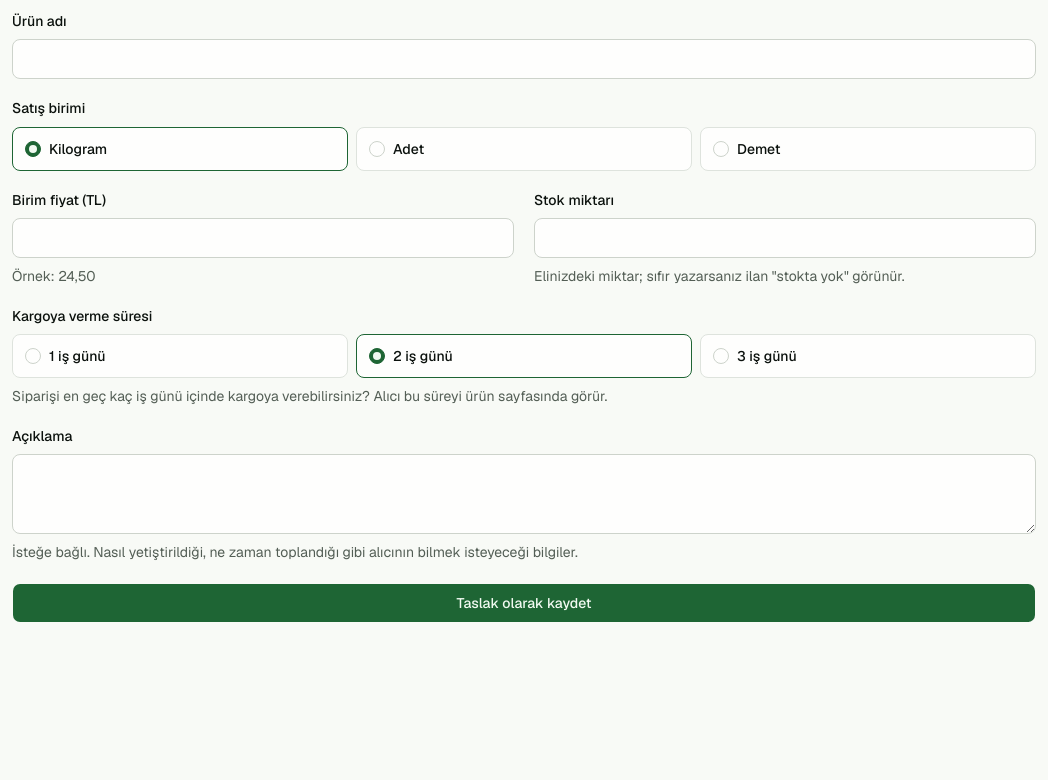
it: ListingForm › sunucunun alan hatasını ilgili alana bağlar
The width and height of the screenshot is (1048, 780).
Type "X" into the field labelled "Ürün adı" at (524, 59), box x1=12 y1=39 x2=1036 y2=79
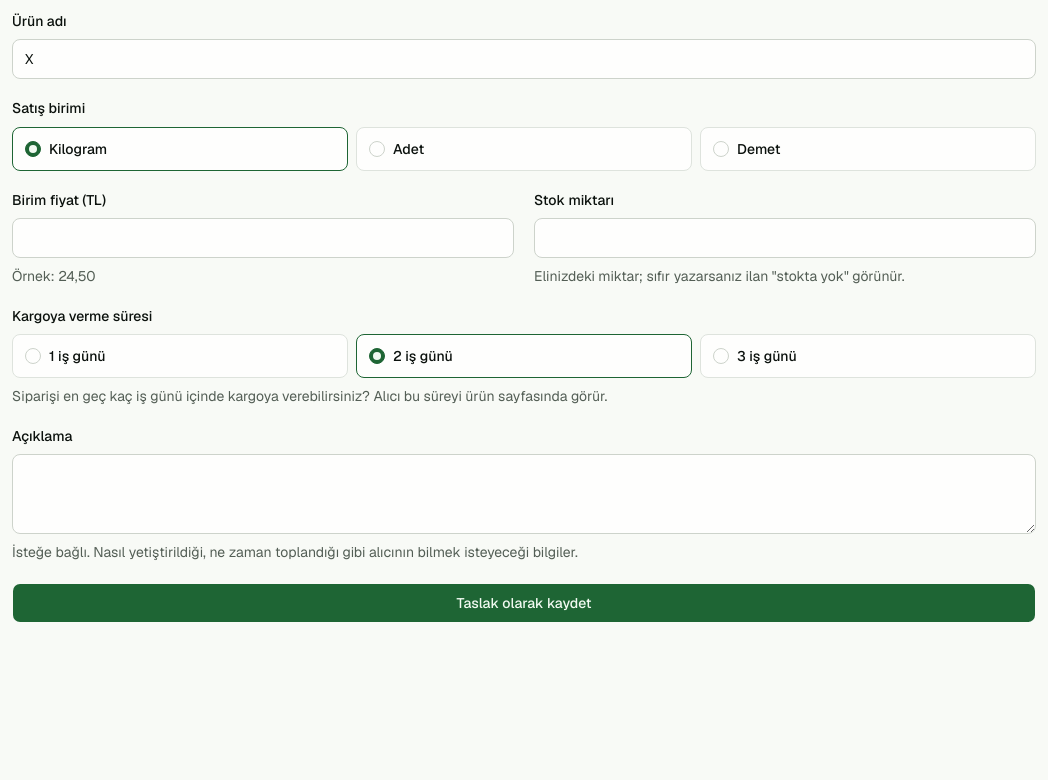
Type "10" into the field labelled "Birim fiyat (TL)" at (263, 238), box x1=12 y1=218 x2=514 y2=258
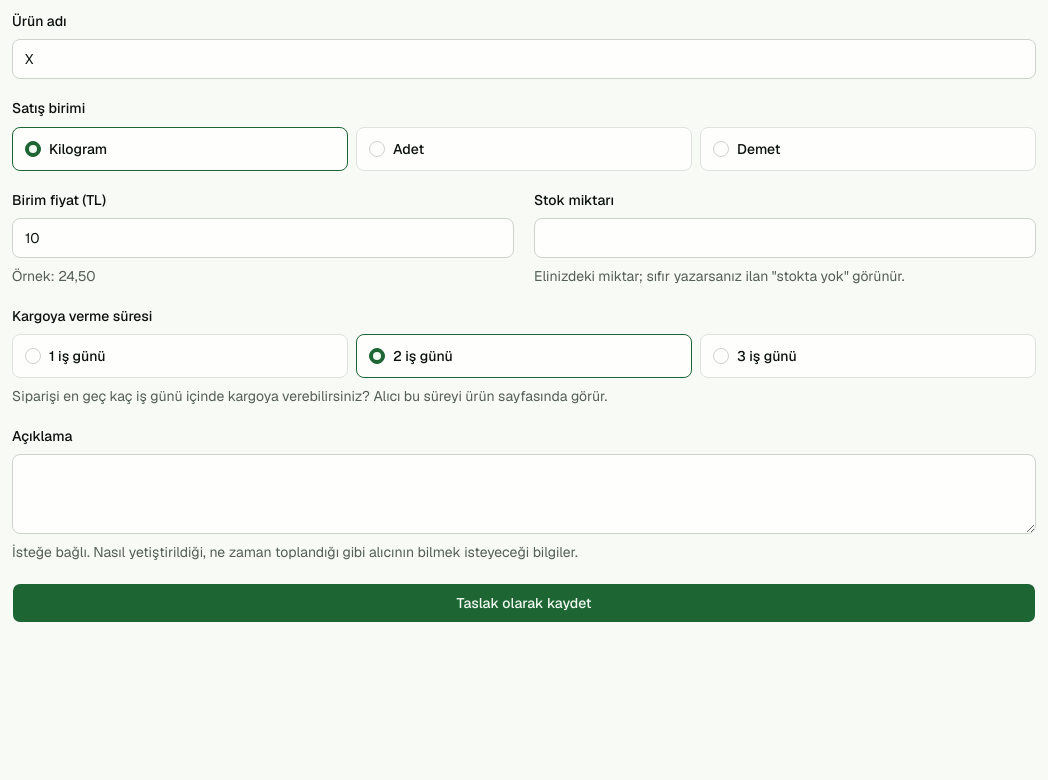
Type "1" into the field labelled "Stok miktarı" at (785, 238), box x1=534 y1=218 x2=1036 y2=258
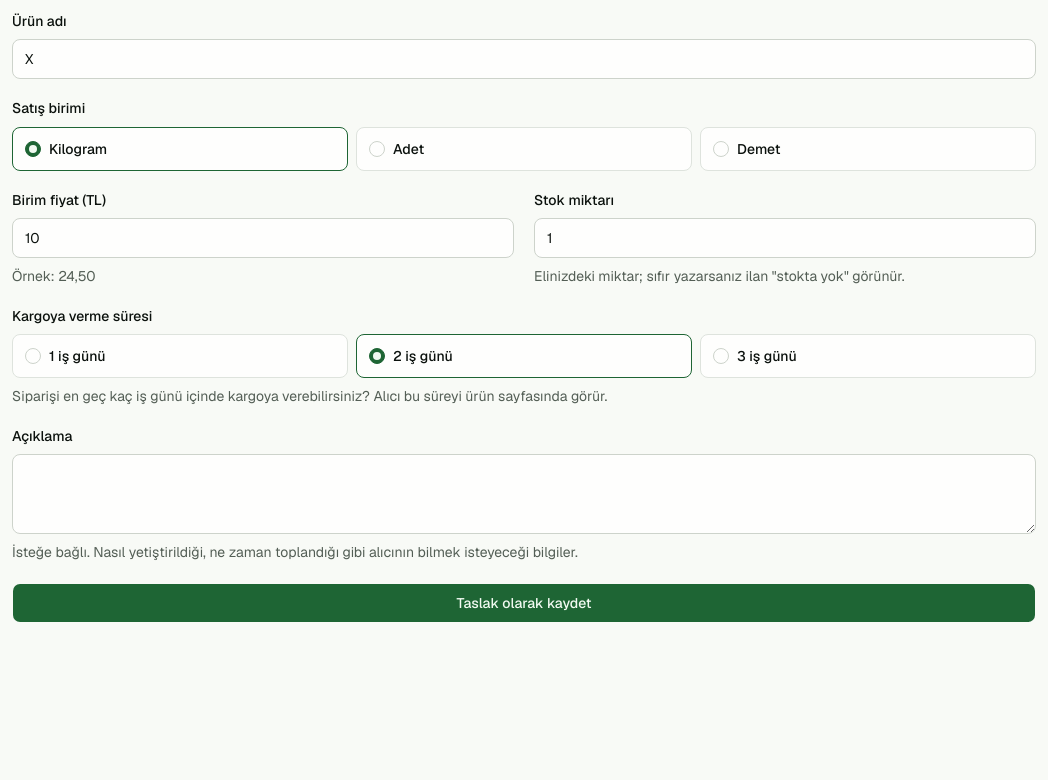
Click the button "Taslak olarak kaydet" at (524, 603), box x1=12 y1=583 x2=1036 y2=623
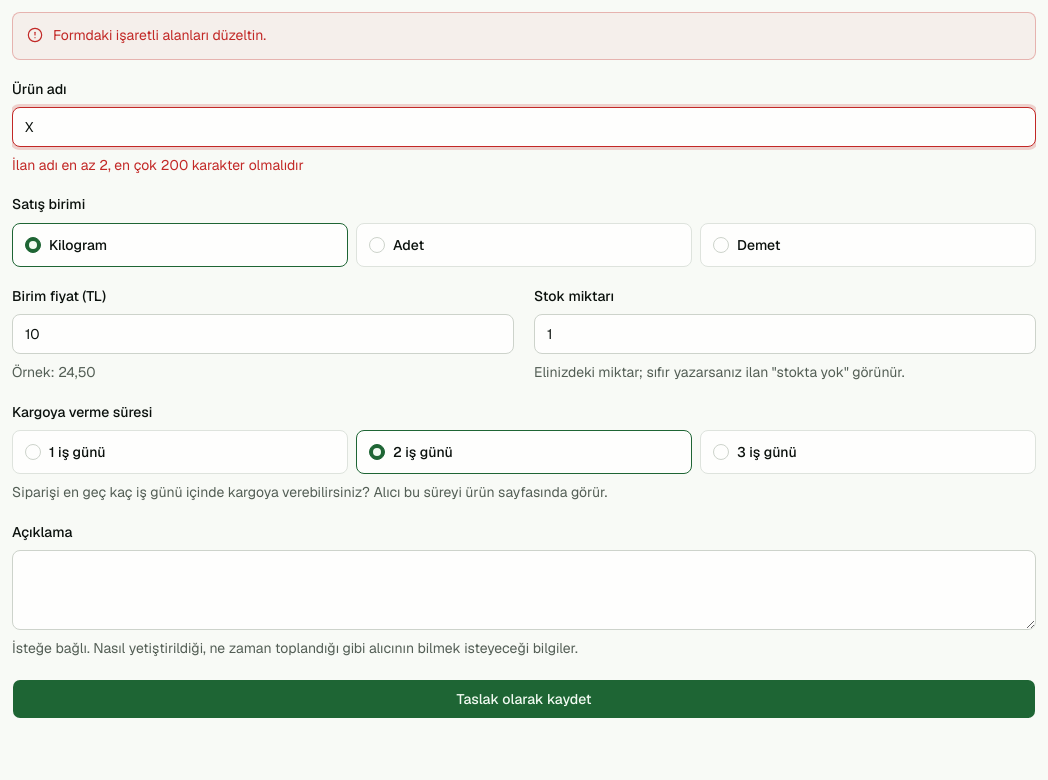
Now the text "İlan adı en az 2, en çok 200 karakter olmalıdır" is shown, box x1=12 y1=156 x2=304 y2=174
